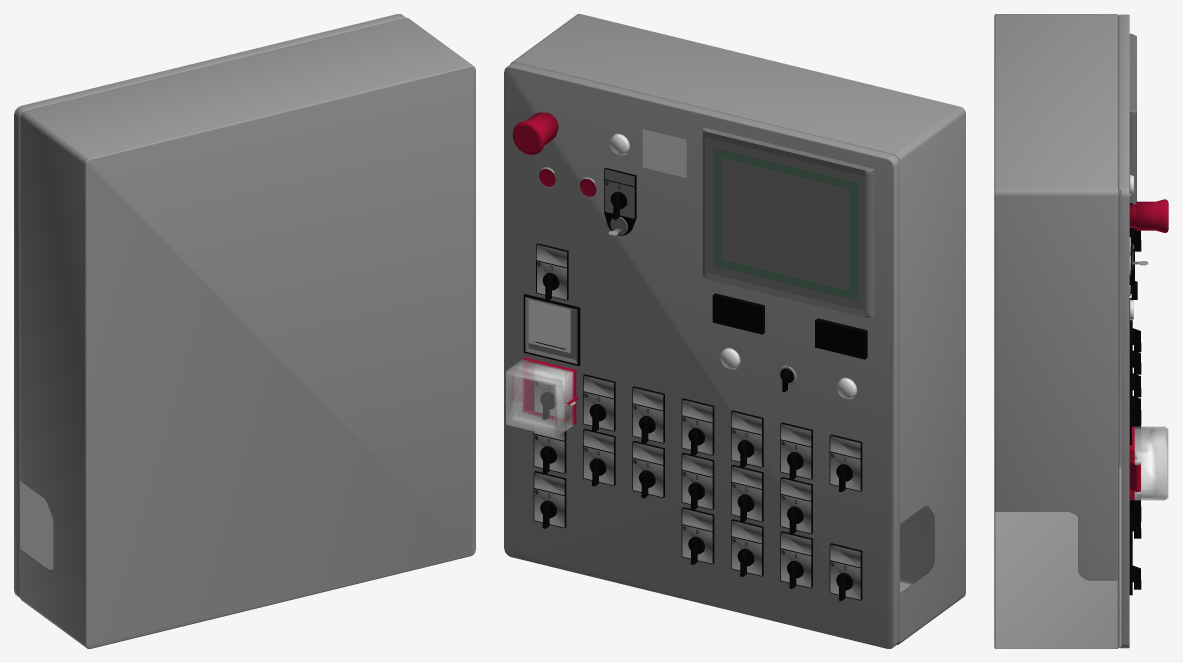
The model's file is ecp.fbx.
The picture shows the model from 3 angles, left to right: view 1: azimuth 30°, elevation 25°; view 2: azimuth 150°, elevation 25°; view 3: azimuth 270°, elevation 25°; orthographic projection. The views are drawn at different scales.
Visible parts, largest first — view 1: Куб.004; view 2: Куб.004, Куб.002, SwitchPlatforms, Плоскость.001, Плоскость.003, Плоскость.004, Куб.003, SwitchPlatform1.001, Куб, Куб.001, Плоскость, SwitchPlatforms2 (+1 smaller); view 3: Куб.004, Плоскость.001, Куб.002, Цилиндр, Плоскость, SwitchPlatforms.
Boxes of the visible parts, box(x1,y1,x2,y2) form: Куб.004: box(14, 14, 475, 648); Куб.004: box(504, 14, 965, 648); Куб.002: box(702, 127, 874, 317); SwitchPlatforms: box(533, 364, 862, 600); Плоскость.001: box(506, 359, 575, 436); Плоскость.003: box(528, 299, 570, 352); Плоскость.004: box(642, 129, 686, 177); Куб.003: box(523, 294, 580, 365); SwitchPlatform1.001: box(604, 168, 636, 235); Куб: box(712, 293, 764, 334); Куб.001: box(815, 318, 867, 359); Плоскость: box(522, 357, 578, 425); SwitchPlatforms2: box(536, 243, 568, 300); Куб.004: box(994, 14, 1129, 648); Плоскость.001: box(1134, 426, 1168, 500); Куб.002: box(1129, 33, 1136, 248); Цилиндр: box(1136, 199, 1168, 232); Плоскость: box(1130, 426, 1140, 500); SwitchPlatforms: box(1129, 298, 1132, 595).
Bounding box in the file's own units: 750 × 900 × 309.
